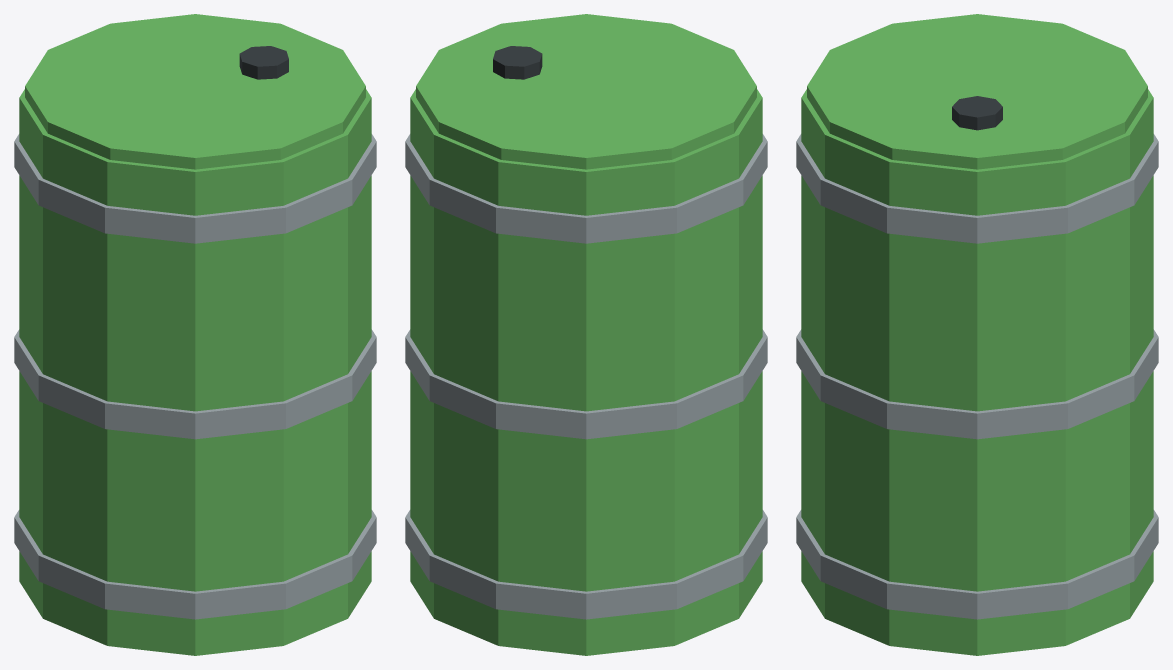
The model's file is TR3_WaterBarrel_green.glb.
3 renders of one model, left to right at view 1: azimuth 30°, elevation 25°; view 2: azimuth 150°, elevation 25°; view 3: azimuth 270°, elevation 25°, orthographic.
Visible parts, largest first — view 1: TR3_WaterBarrel_green; view 2: TR3_WaterBarrel_green; view 3: TR3_WaterBarrel_green.
Part boxes in pixels (x1=…): TR3_WaterBarrel_green: x1=14, y1=14, x2=376, y2=655; TR3_WaterBarrel_green: x1=405, y1=14, x2=767, y2=655; TR3_WaterBarrel_green: x1=796, y1=14, x2=1158, y2=655.
Bounding box in the file's own units: 0.638 × 0.9875 × 0.638.
